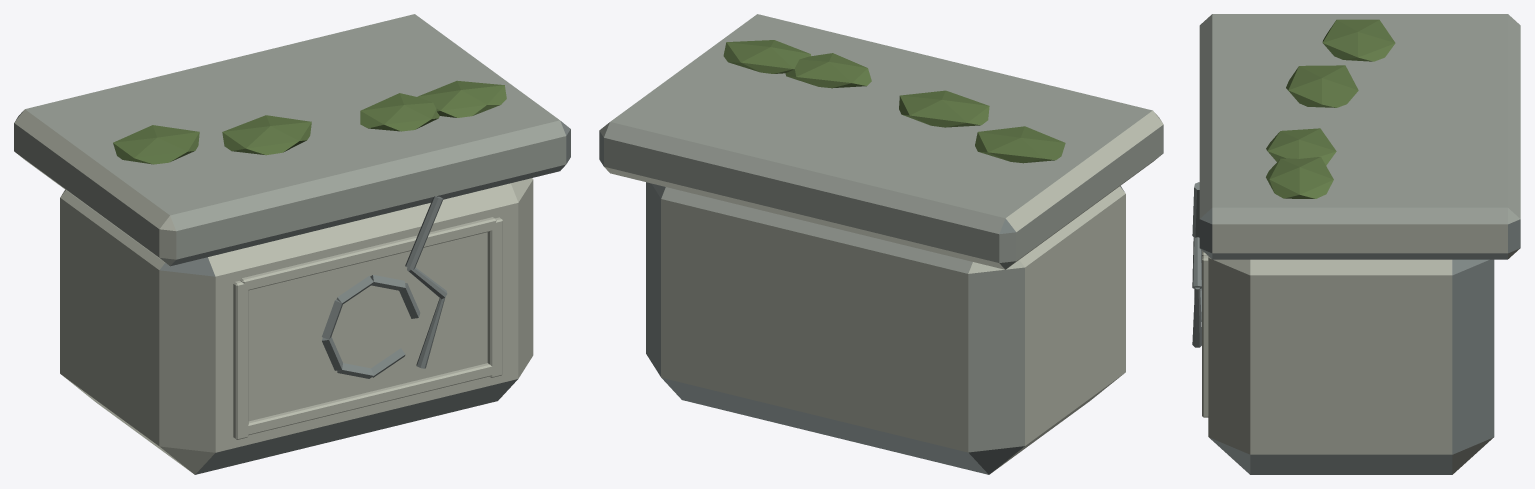
File: small_ruin_stone.glb
3 views of the same model, side by side, from view 1: azimuth 30°, elevation 25°; view 2: azimuth 150°, elevation 25°; view 3: azimuth 270°, elevation 25° (orthographic).
Parts seen in each view (by area): view 1: small_ruin_stone; view 2: small_ruin_stone; view 3: small_ruin_stone.
Part boxes in pixels (<box>): small_ruin_stone: <box>14,14,570,474</box>; small_ruin_stone: <box>599,14,1163,474</box>; small_ruin_stone: <box>1192,14,1520,474</box>.
Size of the model in its own units: 1.1 by 0.7569 by 0.7467.
